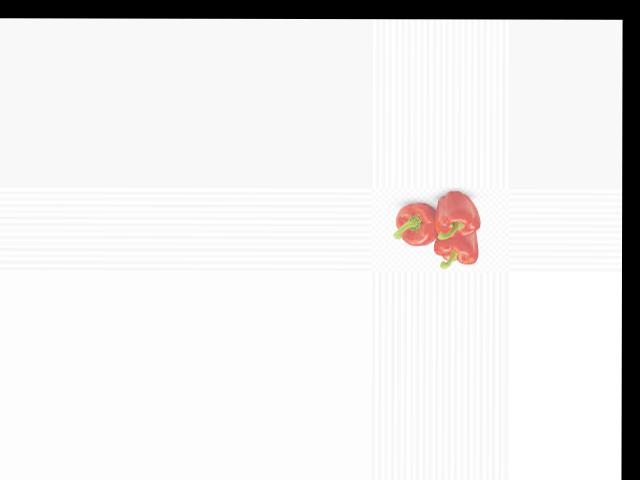bell_pepper: (390, 198, 442, 251)
